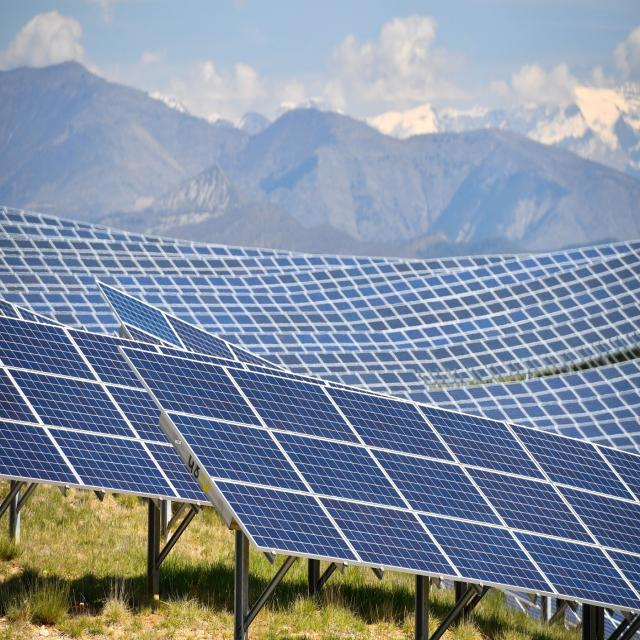Clean: (99, 285, 640, 612), (0, 212, 640, 454), (0, 320, 202, 504)
